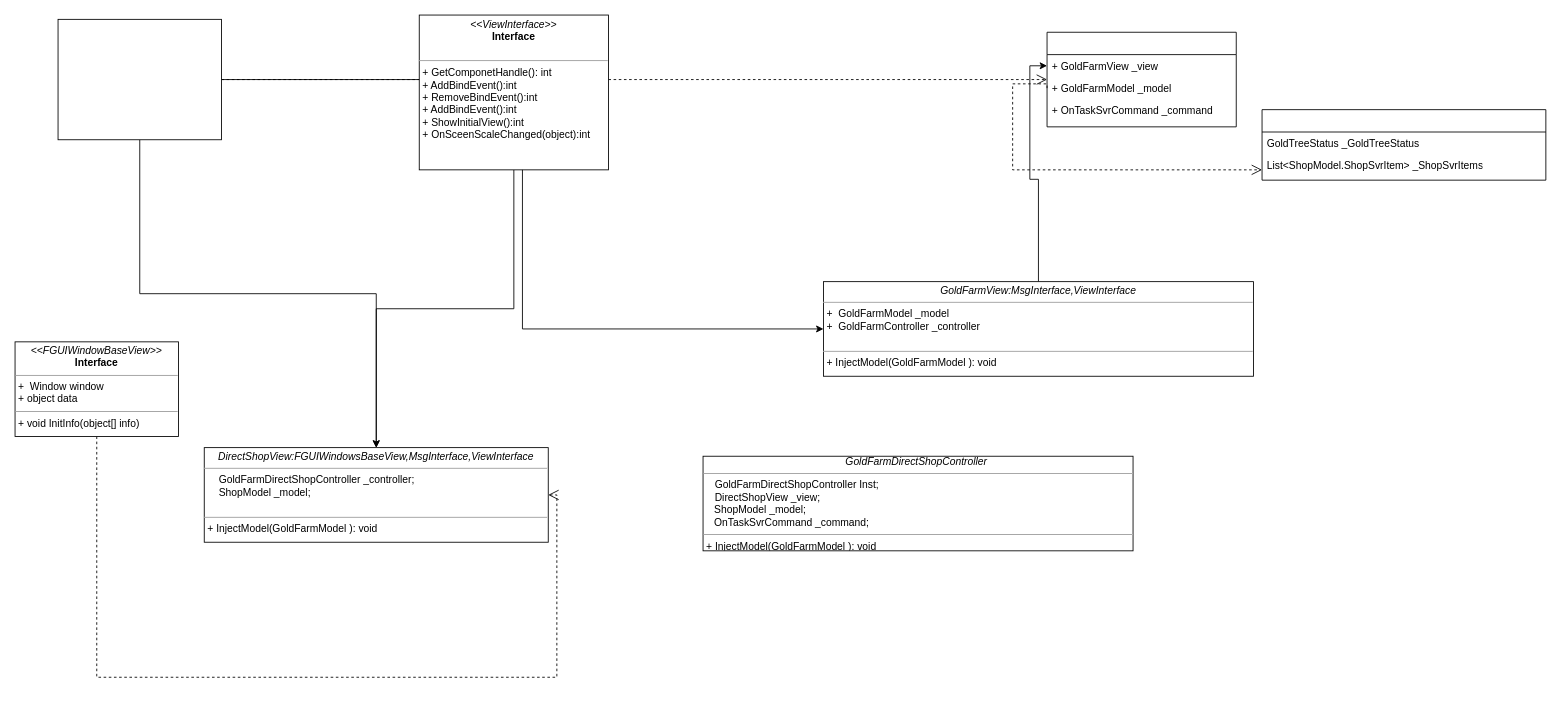
Image size: 1561x703. Some labels were removed from this diagram. The shapes that lost their labels are listed below. From the top down, each one's box as (x1, y1, x2, y2) in pixels, then its label:
(57, 18, 221, 140): <<MsgInterface>> Interface + Register(): int + UnRegister():int
(1046, 31, 1236, 127): GoldFarmController
(1261, 109, 1546, 180): GoldFarmModel
